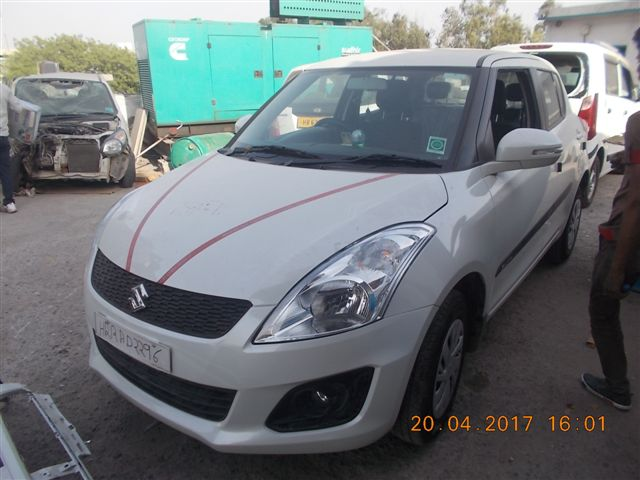Dent: (323, 404, 379, 452)
Dislocation: (262, 315, 375, 363)
Scratch_or_spot: (311, 365, 343, 402)
